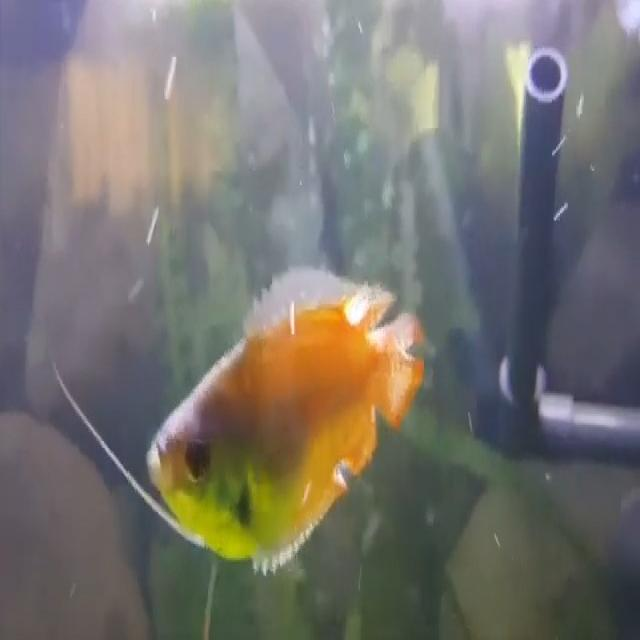fish: (140, 263, 427, 575)
